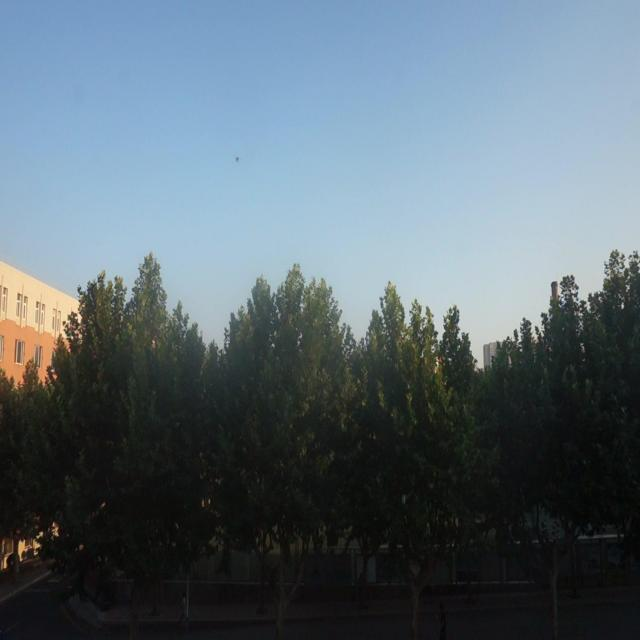UAV: (235, 155, 242, 164)
